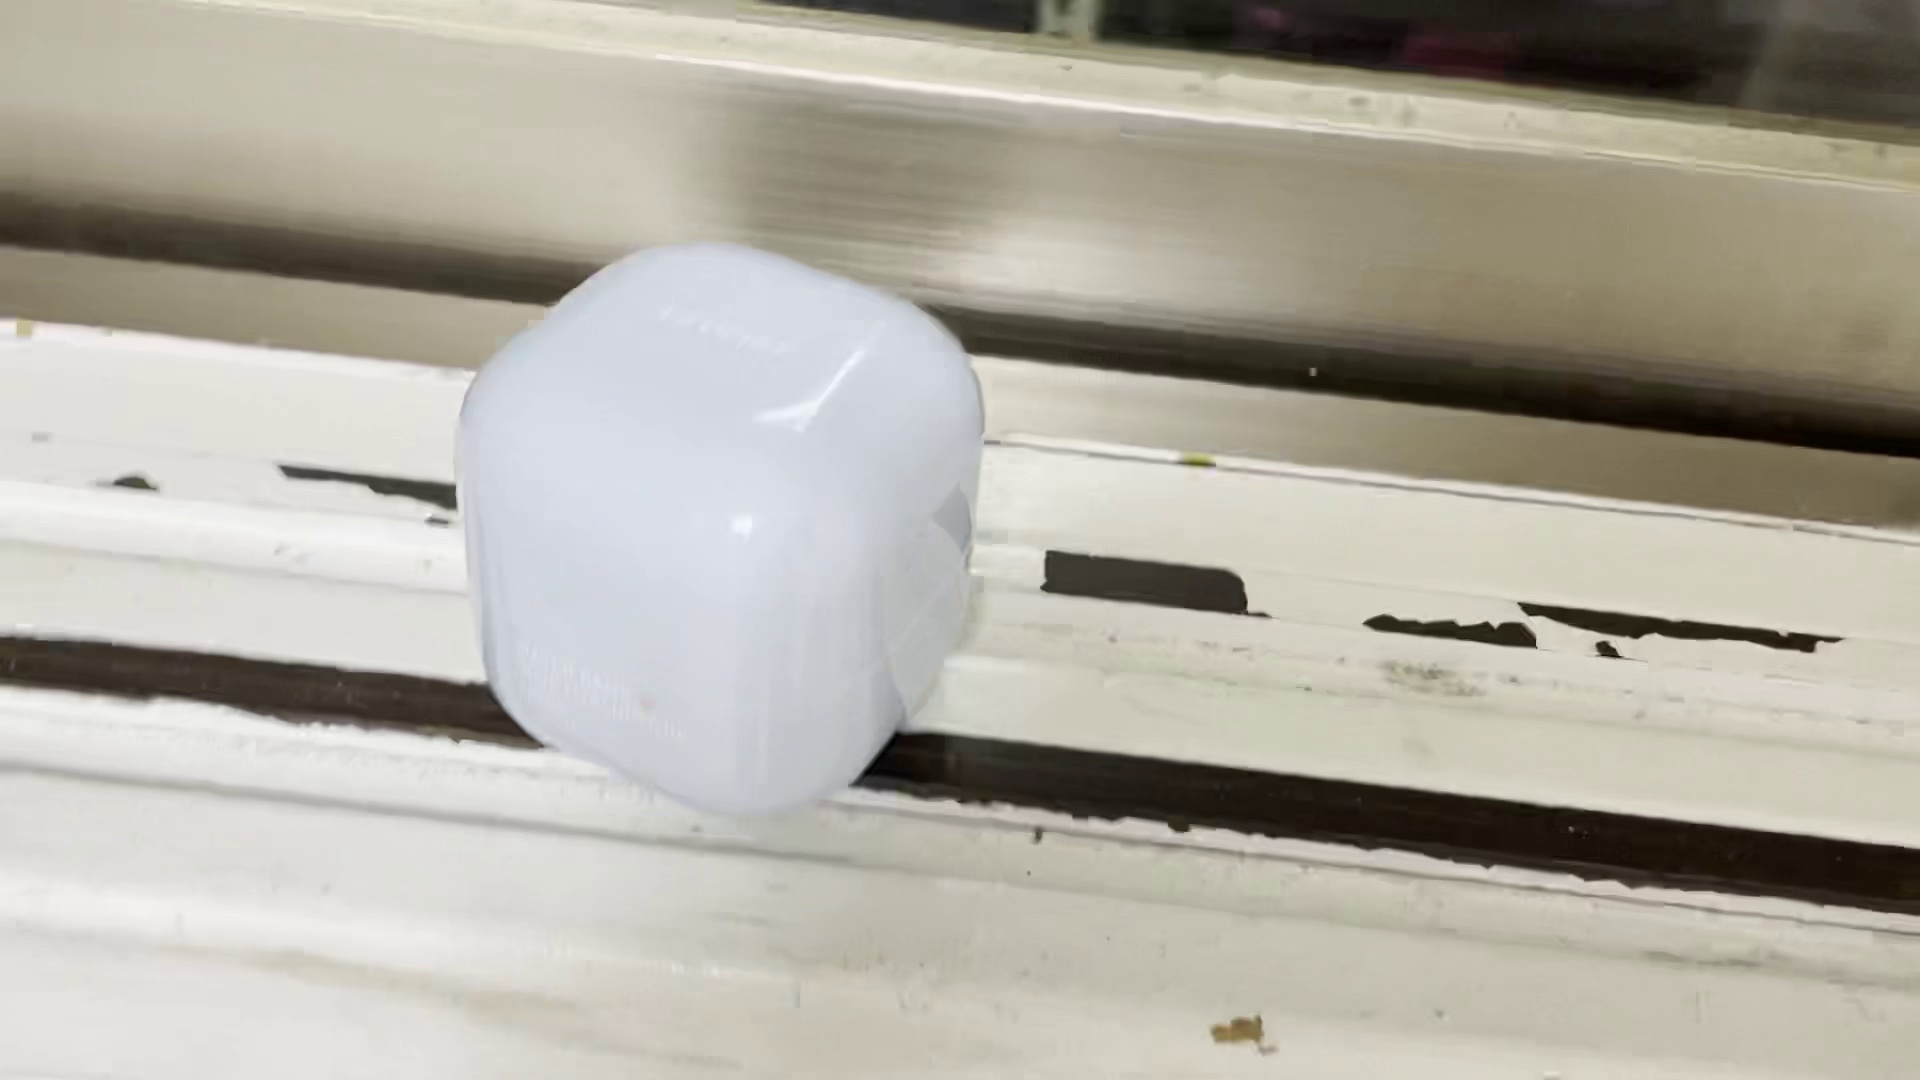cream: (448, 241, 989, 814)
